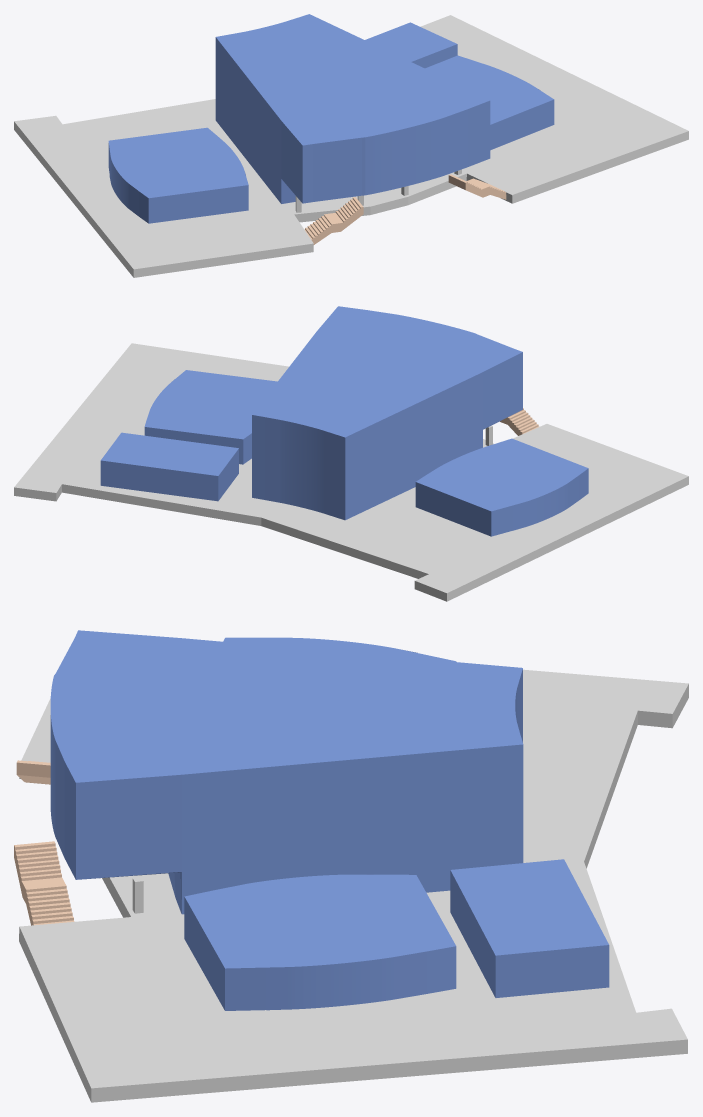
File: searchcentermodel_3f.glb
3 views of the same model, one above another, from view 1: azimuth 30°, elevation 25°; view 2: azimuth 150°, elevation 25°; view 3: azimuth 270°, elevation 25° (orthographic). The views are drawn at different scales.
Parts seen in each view (by area): view 1: 3f_base_base, room_R0, room_R2, room_R1, room_R3, stairs_3f_L, stairs_3f_R; view 2: room_R0, 3f_base_base, room_R2, room_R1, room_R3, stairs_3f_L; view 3: room_R0, 3f_base_base, room_R1, room_R3, stairs_3f_R, room_R2, stairs_3f_L.
Boxes of the visible parts, x1,y1,x2,y2 form: 3f_base_base: [14, 15, 688, 277]; room_R0: [215, 14, 490, 203]; room_R2: [108, 127, 248, 223]; room_R1: [425, 55, 554, 150]; room_R3: [365, 22, 457, 68]; stairs_3f_L: [304, 197, 363, 244]; stairs_3f_R: [448, 174, 506, 199]; room_R0: [252, 306, 522, 520]; 3f_base_base: [14, 343, 688, 601]; room_R2: [415, 438, 588, 536]; room_R1: [144, 370, 277, 464]; room_R3: [100, 432, 238, 501]; stairs_3f_L: [500, 408, 539, 435]; room_R0: [50, 630, 523, 914]; 3f_base_base: [19, 669, 688, 1102]; room_R1: [184, 874, 456, 1010]; room_R3: [450, 859, 609, 997]; stairs_3f_R: [14, 841, 74, 925]; room_R2: [223, 637, 456, 661]; stairs_3f_L: [16, 760, 50, 784].
Size of the model in its own units: 105 by 16.51 by 65.59.
